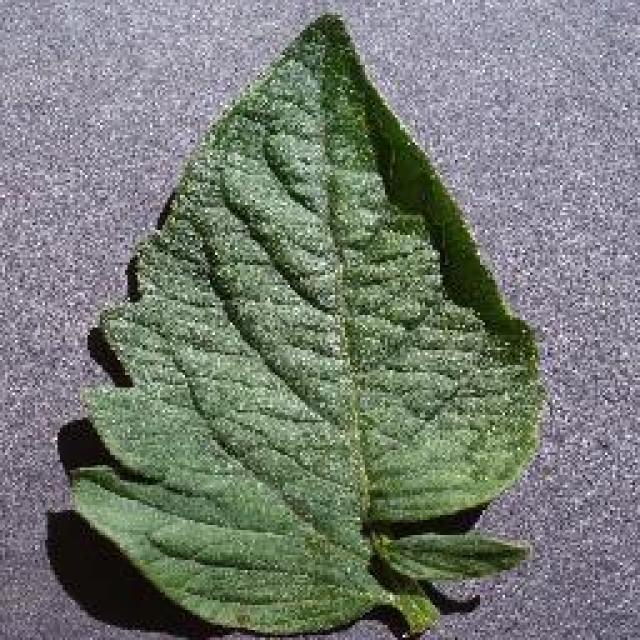Healthy: (52, 0, 568, 640)
